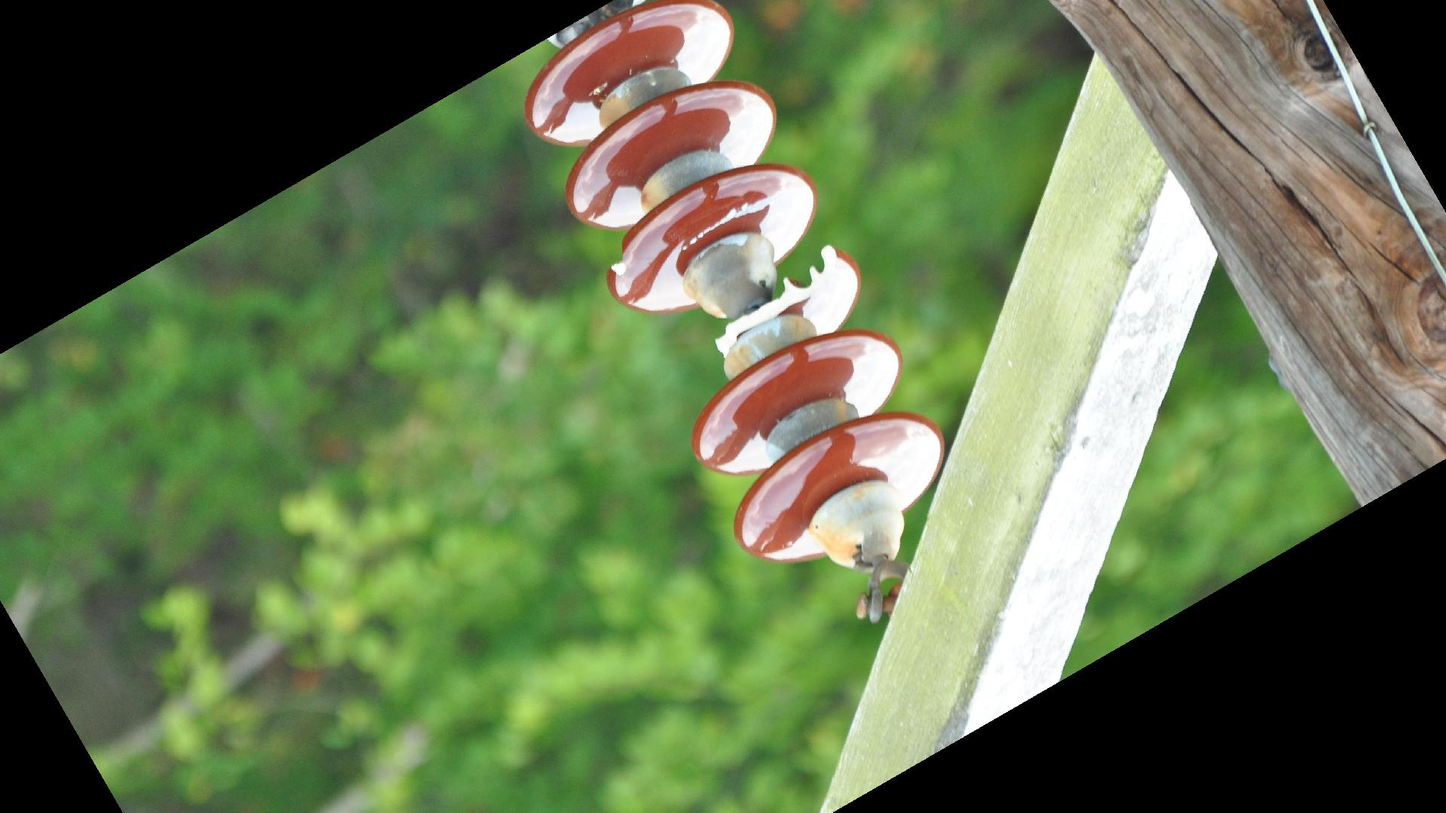insulator: (520, 1, 951, 570)
insulator_breakage: (711, 239, 843, 359), (600, 233, 645, 282)
